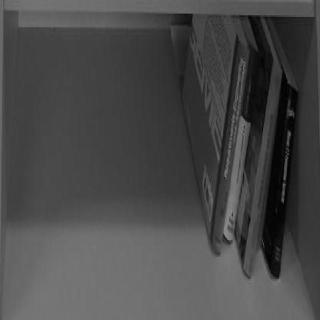book-spine: (241, 59, 285, 275), (208, 38, 251, 252), (221, 43, 263, 239), (270, 84, 300, 276)
